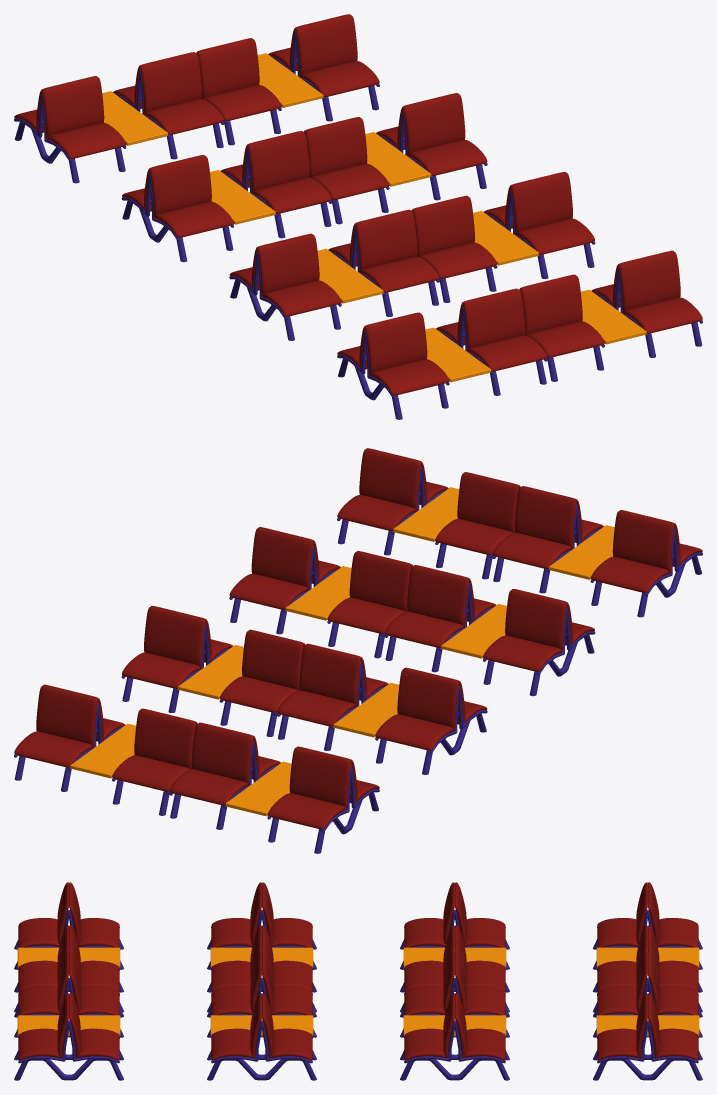
File: StackedChairs.fbx
The picture shows the model from 3 angles, top to bottom: view 1: azimuth 30°, elevation 25°; view 2: azimuth 150°, elevation 25°; view 3: azimuth 270°, elevation 25°; orthographic projection. The views are drawn at different scales.
Parts seen in each view (by area): view 1: Chairs11.001; view 2: Chairs11.001; view 3: Chairs11.001.
Boxes of the visible parts, left/top/right/bottom form: Chairs11.001: left=14, top=14, right=702, bottom=419; Chairs11.001: left=14, top=448, right=702, bottom=853; Chairs11.001: left=14, top=882, right=702, bottom=1080.
Size of the model in its own units: 11.59 by 2.58 by 24.85.
Materials: 1 (1 with a texture image).
